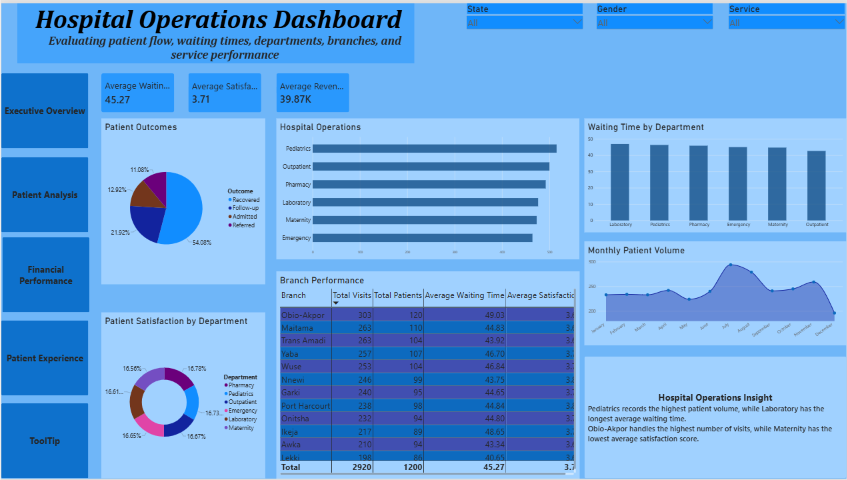

Layout of this report page (visuals, bound fields, positions):
{"tool":"powerbi","page":{"name":"Hospital Operations","canvas":[3840,2160],"ordinal":2},"visuals":[{"type":"shape","box":[72.7,0,1803.4,272.6],"z":0},{"type":"clusteredBarChart","fields":{"Category":["Patient_Visits.Department"],"Y":["Date_Table.Total Visits"]},"box":[1249.2,522.4,1376.4,640.5],"z":1000},{"type":"cardVisual","fields":{"Data":["Date_Table.Average Waiting Time"]},"box":[454.3,318,331.6,177.2],"z":2000},{"type":"clusteredColumnChart","title":"Waiting Time by Department","fields":{"Category":["Patient_Visits.Department"],"Y":["Date_Table.Average Waiting Time"]},"box":[2648.3,522.4,1190.2,517.9],"z":3000},{"type":"donutChart","title":"Patient Satisfaction by Department","fields":{"Category":["Patient_Visits.Department"],"Y":["Date_Table.Average Satisfaction"]},"box":[454.3,1403.7,745,754.1],"z":4000},{"type":"pieChart","title":"Patient Outcomes","fields":{"Category":["Patient_Visits.Outcome"],"Y":["Date_Table.Total Patients"]},"box":[454.3,522.4,745,754.1],"z":5000},{"type":"tableEx","title":"Branch Performance","fields":{"Values":["Patient_Visits.Branch","Date_Table.Total Visits","Date_Table.Total Patients","Date_Table.Average Waiting Time","Date_Table.Average Satisfaction"]},"box":[1249.2,1217.4,1376.4,940.3],"z":6000},{"type":"lineChart","title":"Monthly Patient Volume","fields":{"Category":["Date_Table.Month"],"Y":["Date_Table.Total Visits"]},"box":[2648.3,1081.1,1190.2,472.4],"z":7000},{"type":"cardVisual","fields":{"Data":["Date_Table.Hospital Operations Insight"]},"box":[2648.3,1603.5,1190.2,554.2],"z":8000},{"type":"textbox","box":[154.4,0,1721.7,272.6],"z":8001},{"type":"slicer","fields":{"Values":["Patient_Visits.State"]},"box":[2107.8,0,540.6,136.3],"z":8002},{"type":"cardVisual","fields":{"Data":["Date_Table.Average Satisfaction"]},"box":[849.5,318,331.6,177.2],"z":8003},{"type":"cardVisual","fields":{"Data":["Date_Table.Average Revenue Per Patient"]},"box":[1249.2,318,331.6,177.2],"z":8004},{"type":"slicer","fields":{"Values":["Patient_Visits.Gender"]},"box":[2698.3,0,540.6,136.3],"z":8005},{"type":"slicer","fields":{"Values":["Patient_Visits.Service"]},"box":[3297.9,0,540.6,136.3],"z":8006},{"type":"actionButton","box":[0,318,395.2,340.7],"z":8007},{"type":"actionButton","box":[0,699.6,395.2,340.7],"z":8008},{"type":"actionButton","box":[4.5,1063,395.2,340.7],"z":8009},{"type":"actionButton","box":[0,1440,395.2,340.7],"z":8010},{"type":"actionButton","box":[0,1817,395.2,340.7],"z":8011}]}

Visuals, with their boxes in screenshot pixels (x1, y1, x2, y2), scaled from the page's 3840x2160 canvas onto the 847x480 screenshot:
shape: crop(16, 0, 414, 61)
clusteredBarChart - Patient_Visits.Department x Date_Table.Total Visits: crop(276, 116, 579, 258)
cardVisual - Date_Table.Average Waiting Time: crop(100, 71, 173, 110)
"Waiting Time by Department" clusteredColumnChart: crop(584, 116, 846, 231)
"Patient Satisfaction by Department" donutChart: crop(100, 312, 265, 479)
"Patient Outcomes" pieChart: crop(100, 116, 265, 284)
"Branch Performance" tableEx: crop(276, 271, 579, 479)
"Monthly Patient Volume" lineChart: crop(584, 240, 846, 345)
cardVisual - Date_Table.Hospital Operations Insight: crop(584, 356, 846, 479)
textbox: crop(34, 0, 414, 61)
slicer - Patient_Visits.State: crop(465, 0, 584, 30)
cardVisual - Date_Table.Average Satisfaction: crop(187, 71, 261, 110)
cardVisual - Date_Table.Average Revenue Per Patient: crop(276, 71, 349, 110)
slicer - Patient_Visits.Gender: crop(595, 0, 714, 30)
slicer - Patient_Visits.Service: crop(727, 0, 846, 30)
actionButton: crop(0, 71, 87, 146)
actionButton: crop(0, 155, 87, 231)
actionButton: crop(1, 236, 88, 312)
actionButton: crop(0, 320, 87, 396)
actionButton: crop(0, 404, 87, 479)
